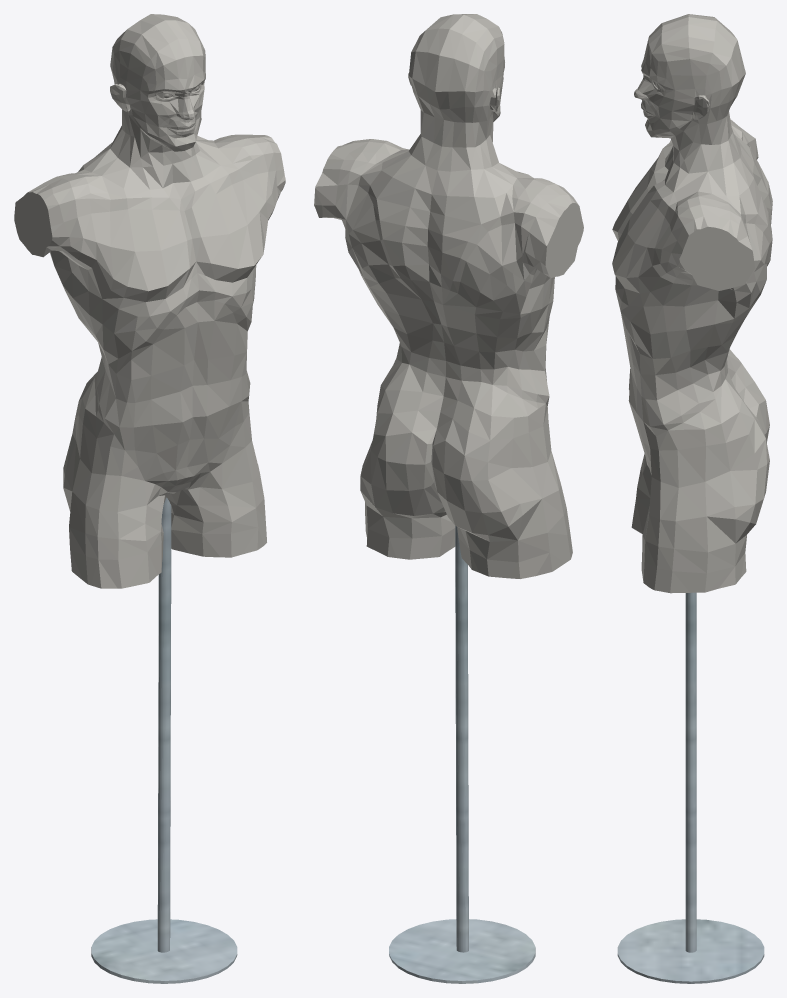
Rendered from mannequinH.fbx.
3 views of the same model, side by side, from view 1: azimuth 30°, elevation 25°; view 2: azimuth 150°, elevation 25°; view 3: azimuth 270°, elevation 25° (orthographic).
Visible parts, largest first — view 1: MOB-002; view 2: MOB-002; view 3: MOB-002.
Boxes of the visible parts, <box> form: MOB-002: <box>14,14,285,983</box>; MOB-002: <box>314,14,583,983</box>; MOB-002: <box>612,14,772,983</box>.
Size of the model in its own units: 41.15 by 24.61 by 158.
2 materials, 1 textured.
